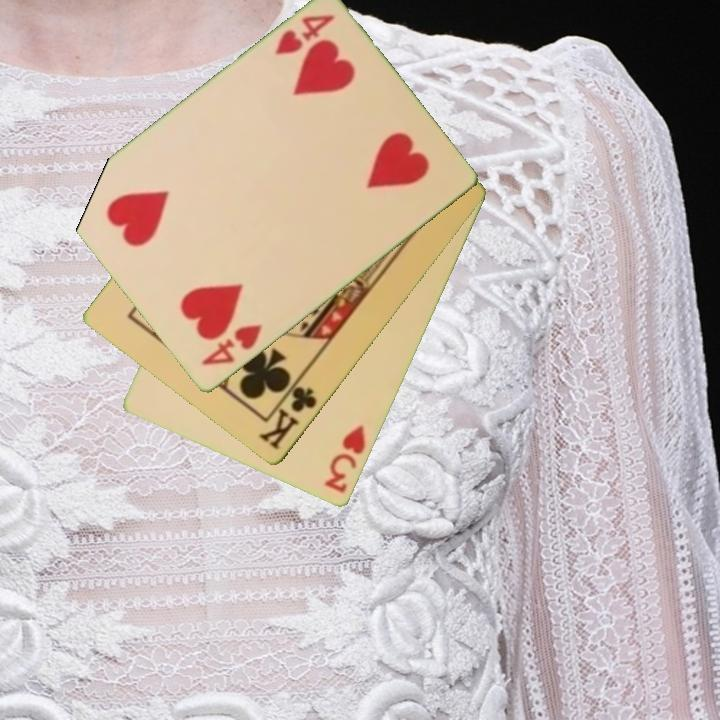3h: (321, 422, 369, 497)
4h: (198, 320, 265, 369), (271, 11, 338, 59)
Kc: (255, 373, 320, 454)
